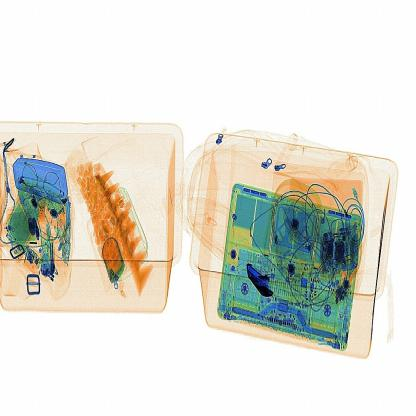pliers: (238, 256, 286, 312)
